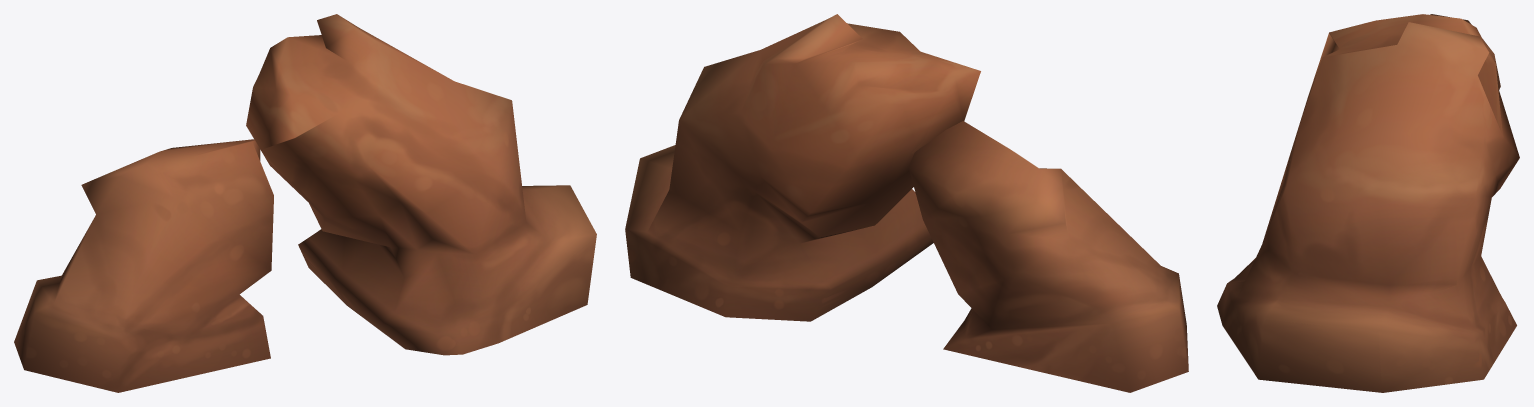
Rendered from RockFormation_04.fbx.
The picture shows the model from 3 angles, left to right: view 1: azimuth 30°, elevation 25°; view 2: azimuth 150°, elevation 25°; view 3: azimuth 270°, elevation 25°; orthographic projection. The views are drawn at different scales.
Visible parts, largest first — view 1: RockFormation_04_GEO1; view 2: RockFormation_04_GEO1; view 3: RockFormation_04_GEO1.
Part boxes in pixels (<box>): RockFormation_04_GEO1: <box>14,14,596,392</box>; RockFormation_04_GEO1: <box>625,14,1188,392</box>; RockFormation_04_GEO1: <box>1217,14,1519,392</box>.
Bounding box in the file's own units: 23.27 × 10.98 × 10.93.
